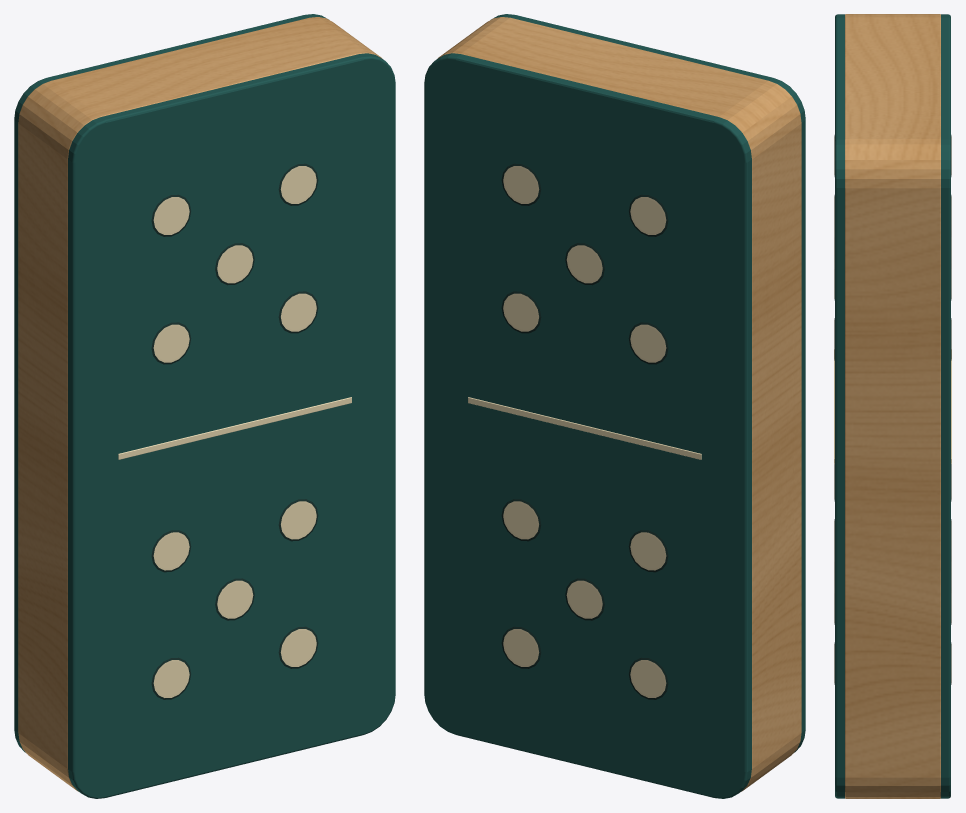
The model's file is domino.glb.
3 renders of one model, left to right at view 1: azimuth 30°, elevation 25°; view 2: azimuth 150°, elevation 25°; view 3: azimuth 270°, elevation 25°, orthographic. The views are drawn at different scales.
Parts seen in each view (by area): view 1: domino, pipset_1, pipset_0, pipset_2; view 2: domino, pipset_1, pipset_0, pipset_2; view 3: domino, pipset_1.
Part boxes in pixels (x1=…): domino: x1=14, y1=14, x2=395, y2=798; pipset_1: x1=151, y1=163, x2=318, y2=668; pipset_0: x1=151, y1=194, x2=318, y2=620; pipset_2: x1=151, y1=243, x2=318, y2=699; domino: x1=424, y1=14, x2=805, y2=798; pipset_1: x1=501, y1=163, x2=668, y2=668; pipset_0: x1=501, y1=194, x2=668, y2=620; pipset_2: x1=501, y1=243, x2=668, y2=699; domino: x1=834, y1=14, x2=951, y2=798; pipset_1: x1=834, y1=195, x2=951, y2=684.
Bounding box in the file's own units: 0.025 × 0.05 × 0.00812.
Materials: 5 (1 with a texture image).
